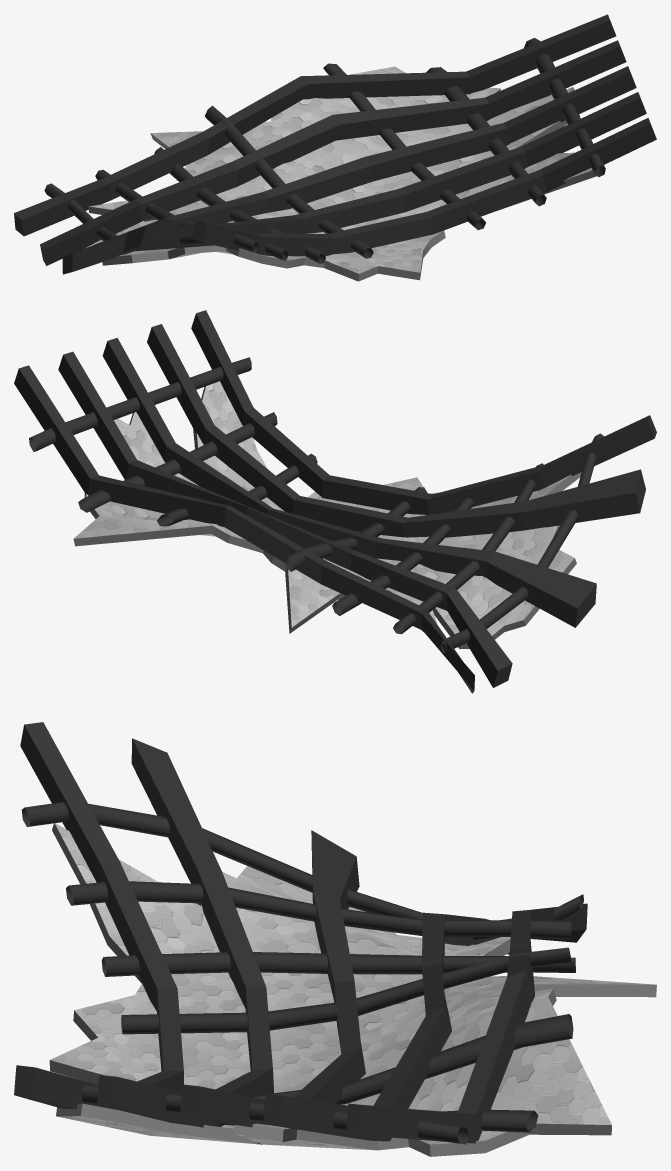
The model's file is spaceship_broken_part01.gltf.
3 renders of one model, top to bottom at view 1: azimuth 30°, elevation 25°; view 2: azimuth 150°, elevation 25°; view 3: azimuth 270°, elevation 25°, orthographic. The views are drawn at different scales.
Parts seen in each view (by area): view 1: Plane.004, Cube.005, Cube.004, Cube.003, Cube.002, Cube.001, BezierCurve.011, BezierCurve.013, BezierCurve.015, BezierCurve.014, BezierCurve.008, BezierCurve.010 (+1 smaller); view 2: Plane.004, Cube.002, Cube.003, Cube.001, Cube.005, Cube.004, BezierCurve.015, BezierCurve.008, BezierCurve.009, BezierCurve.014, BezierCurve.010, BezierCurve.011 (+1 smaller); view 3: Plane.004, Cube.002, Cube.001, Cube.003, Cube.005, Cube.004, BezierCurve.009, BezierCurve.011, BezierCurve.008, BezierCurve.010, BezierCurve.013, BezierCurve.015 (+1 smaller).
Part boxes in pixels (x1=…): Plane.004: x1=88, y1=66, x2=596, y2=281; Cube.005: x1=14, y1=14, x2=616, y2=236; Cube.004: x1=40, y1=40, x2=626, y2=265; Cube.003: x1=62, y1=66, x2=636, y2=274; Cube.002: x1=123, y1=92, x2=646, y2=251; Cube.001: x1=192, y1=118, x2=656, y2=256; BezierCurve.011: x1=205, y1=105, x2=373, y2=258; BezierCurve.013: x1=323, y1=63, x2=485, y2=230; BezierCurve.015: x1=524, y1=38, x2=605, y2=177; BezierCurve.014: x1=426, y1=67, x2=546, y2=206; BezierCurve.008: x1=44, y1=183, x2=258, y2=252; BezierCurve.010: x1=154, y1=147, x2=325, y2=263; Plane.004: x1=73, y1=381, x2=581, y2=648; Cube.002: x1=147, y1=324, x2=645, y2=537; Cube.003: x1=102, y1=338, x2=596, y2=627; Cube.001: x1=191, y1=310, x2=656, y2=514; Cube.005: x1=14, y1=365, x2=474, y2=693; Cube.004: x1=58, y1=351, x2=512, y2=687; BezierCurve.015: x1=29, y1=357, x2=251, y2=451; BezierCurve.008: x1=440, y1=433, x2=603, y2=653; BezierCurve.009: x1=393, y1=463, x2=543, y2=634; BezierCurve.014: x1=78, y1=412, x2=277, y2=512; BezierCurve.010: x1=332, y1=498, x2=473, y2=615; BezierCurve.011: x1=284, y1=487, x2=427, y2=571; Plane.004: x1=49, y1=823, x2=656, y2=1156; Cube.002: x1=97, y1=738, x2=273, y2=1127; Cube.001: x1=14, y1=722, x2=183, y2=1110; Cube.003: x1=180, y1=830, x2=365, y2=1127; Cube.005: x1=346, y1=903, x2=587, y2=1143; Cube.004: x1=263, y1=912, x2=509, y2=1141; BezierCurve.009: x1=66, y1=881, x2=571, y2=939; BezierCurve.011: x1=121, y1=947, x2=571, y2=1034; BezierCurve.008: x1=21, y1=802, x2=583, y2=941; BezierCurve.010: x1=101, y1=952, x2=575, y2=976; BezierCurve.013: x1=254, y1=1014, x2=573, y2=1104; BezierCurve.015: x1=81, y1=1085, x2=469, y2=1144.
Size of the model in its own units: 39.36 by 10.43 by 25.47.
Materials: 3 (1 with a texture image).
